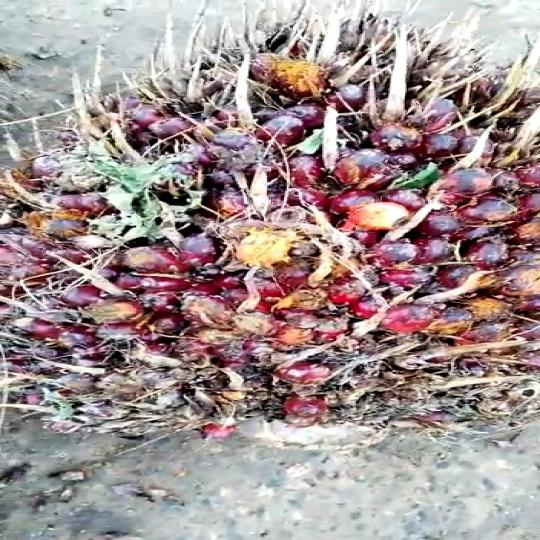masak: (0, 16, 540, 438)
